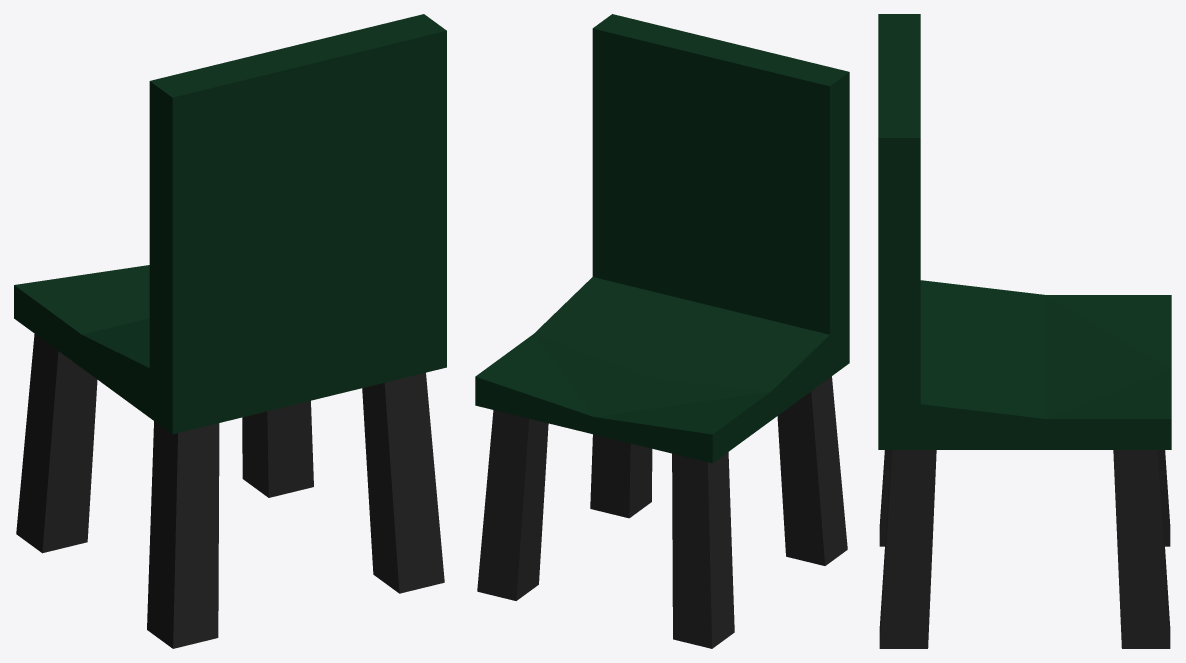
Rendered from chair.fbx.
3 renders of one model, left to right at view 1: azimuth 30°, elevation 25°; view 2: azimuth 150°, elevation 25°; view 3: azimuth 270°, elevation 25°, orthographic. The views are drawn at different scales.
Visible parts, largest first — view 1: Cube; view 2: Cube; view 3: Cube.
Part boxes in pixels (x1=…): Cube: x1=14, y1=14, x2=446, y2=648; Cube: x1=475, y1=14, x2=849, y2=648; Cube: x1=878, y1=14, x2=1171, y2=648.
Size of the model in its own units: 200 by 385 by 200.
